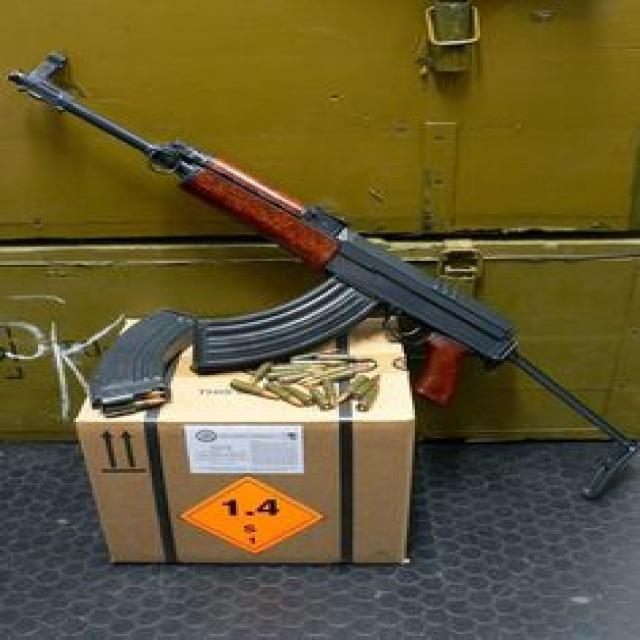ak: (5, 36, 640, 504)
